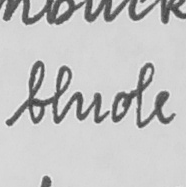b: (23, 59, 48, 127)
d: (108, 60, 155, 128)
e: (150, 87, 178, 126)
l: (51, 63, 74, 125)
u: (72, 88, 103, 124)
